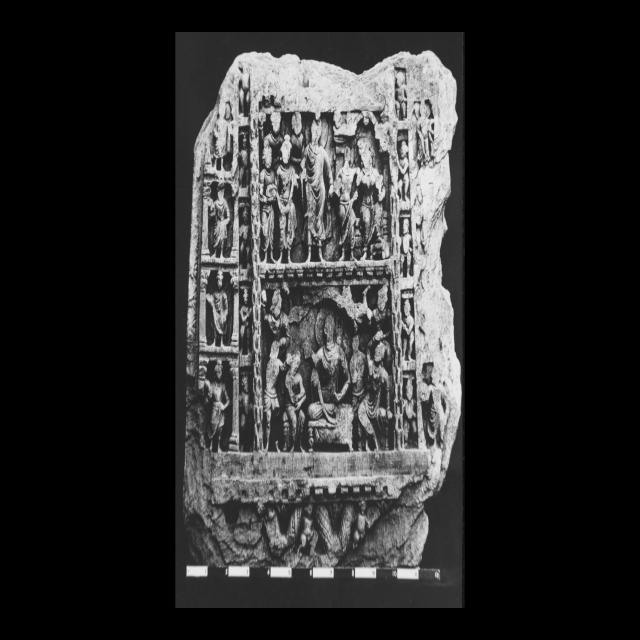buddha-sitting: (307, 307, 354, 451)
buddha-standing: (301, 119, 334, 261)
